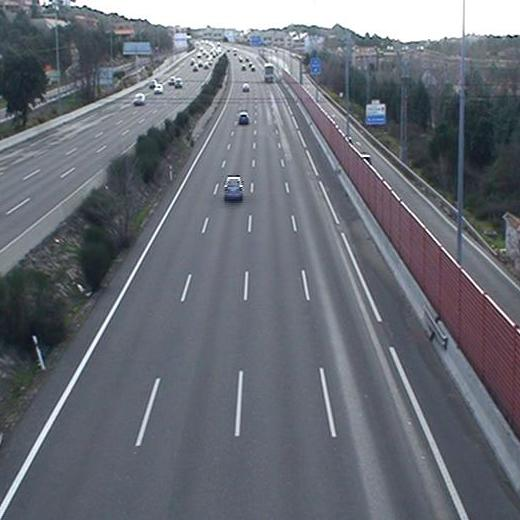car: (222, 176, 243, 198), (237, 111, 250, 126)
truck: (263, 65, 274, 83)
